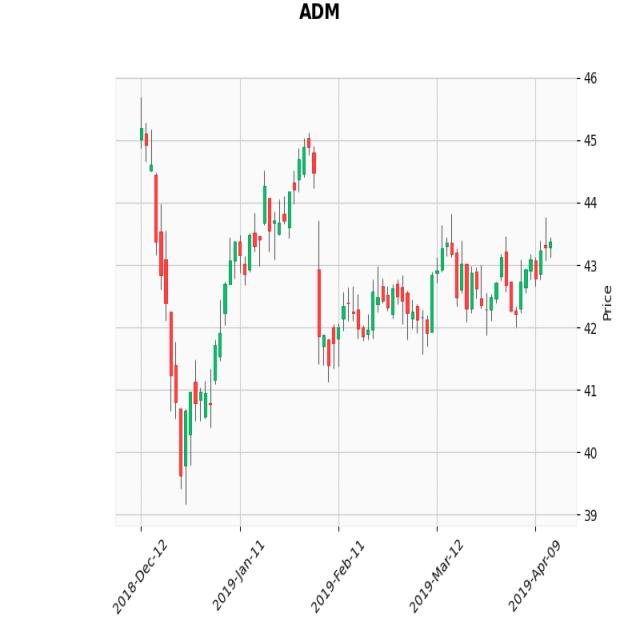Triple-Bottom: (442, 222, 554, 324)
